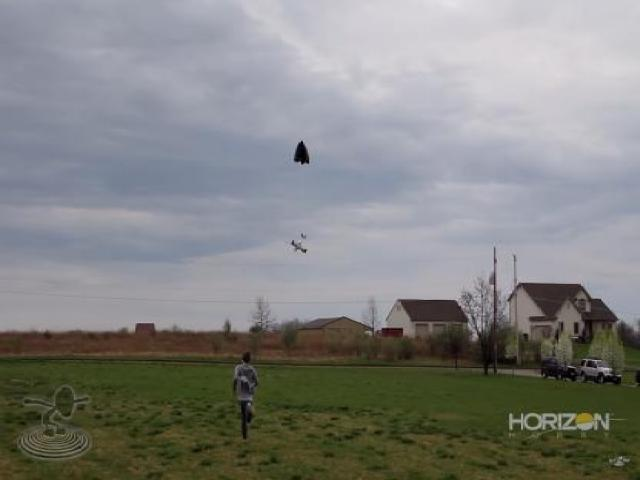uav: (287, 227, 310, 259)
